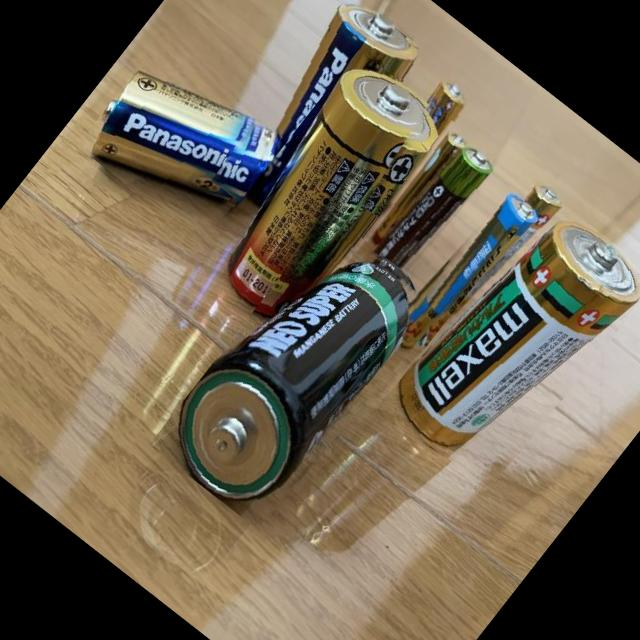Hazard: (148, 211, 450, 537), (375, 192, 640, 498), (185, 49, 454, 344), (200, 0, 431, 238), (75, 34, 298, 252), (389, 178, 547, 358), (431, 170, 574, 333), (361, 134, 502, 296), (350, 72, 479, 222), (360, 120, 476, 256)
